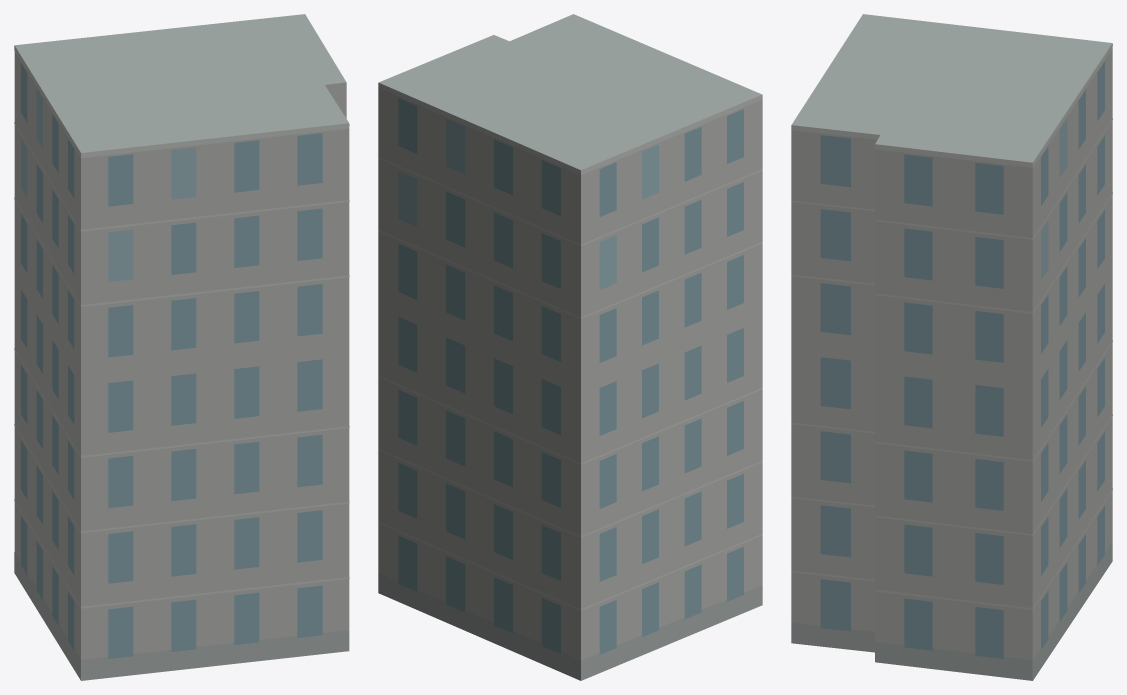
Rendered from survey-upis-32876963.glb.
The picture shows the model from 3 angles, left to right: view 1: azimuth 30°, elevation 25°; view 2: azimuth 150°, elevation 25°; view 3: azimuth 270°, elevation 25°; orthographic projection. The views are drawn at different scales.
Parts seen in each view (by area): view 1: survey-upis-32876963.tmp; view 2: survey-upis-32876963.tmp; view 3: survey-upis-32876963.tmp.
Part boxes in pixels (x1,y1,x2,y2): survey-upis-32876963.tmp: (14,14,349,680); survey-upis-32876963.tmp: (378,14,762,680); survey-upis-32876963.tmp: (791,14,1112,680).
Size of the model in its own units: 15.11 by 24.5 by 13.79.
